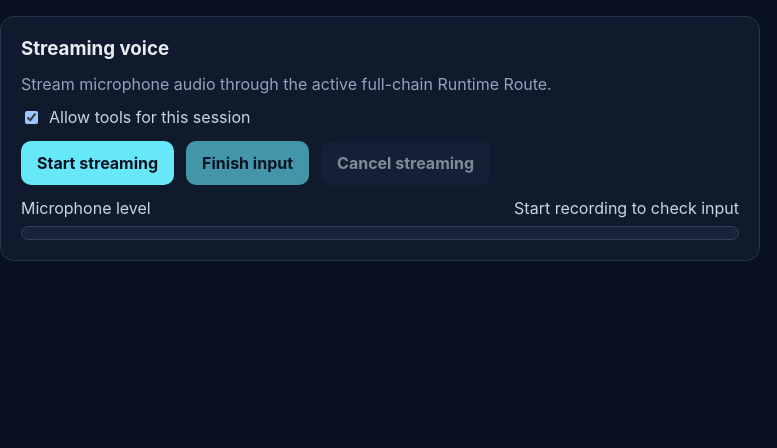
StreamingVoiceControls › starts, renders incremental state, finishes, and cancels
Expected: the checkbox labelled "Allow tools for this session" is checked, [25,111,38,124]
Click the button "Start streaming". click: (98, 163)
box: [21,141,174,185]
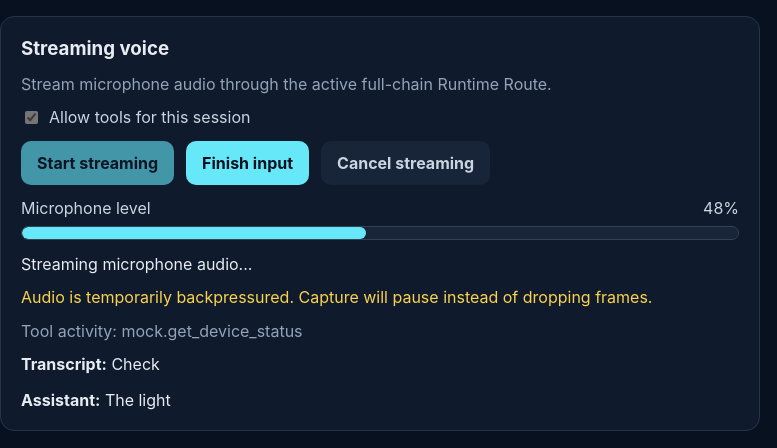
Expected: the button "Start streaming" is disabled, [21,141,174,185]
Expected: the text "Check" is shown, [111,354,160,374]
Expected: the text "The light" is shown, [105,390,171,410]
Click the button "Finish input". click: (248, 163)
box: [186,141,309,185]
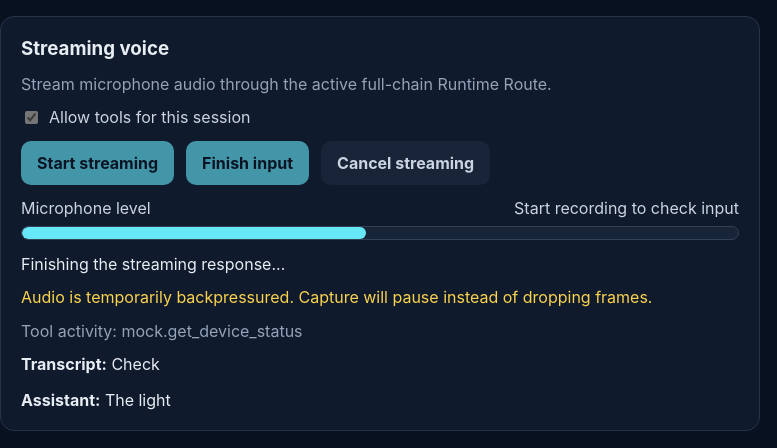
Click the button "Cancel streaming". click: (406, 163)
box: [321,141,490,185]
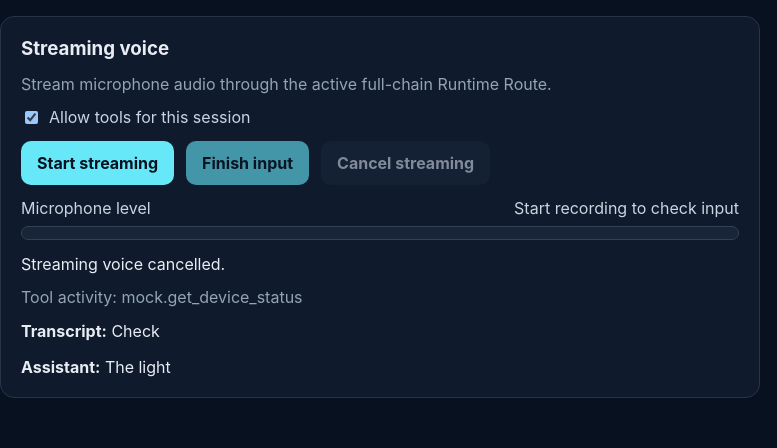
Expected: the text "Streaming voice cancelled." is shown, [21,254,225,274]
